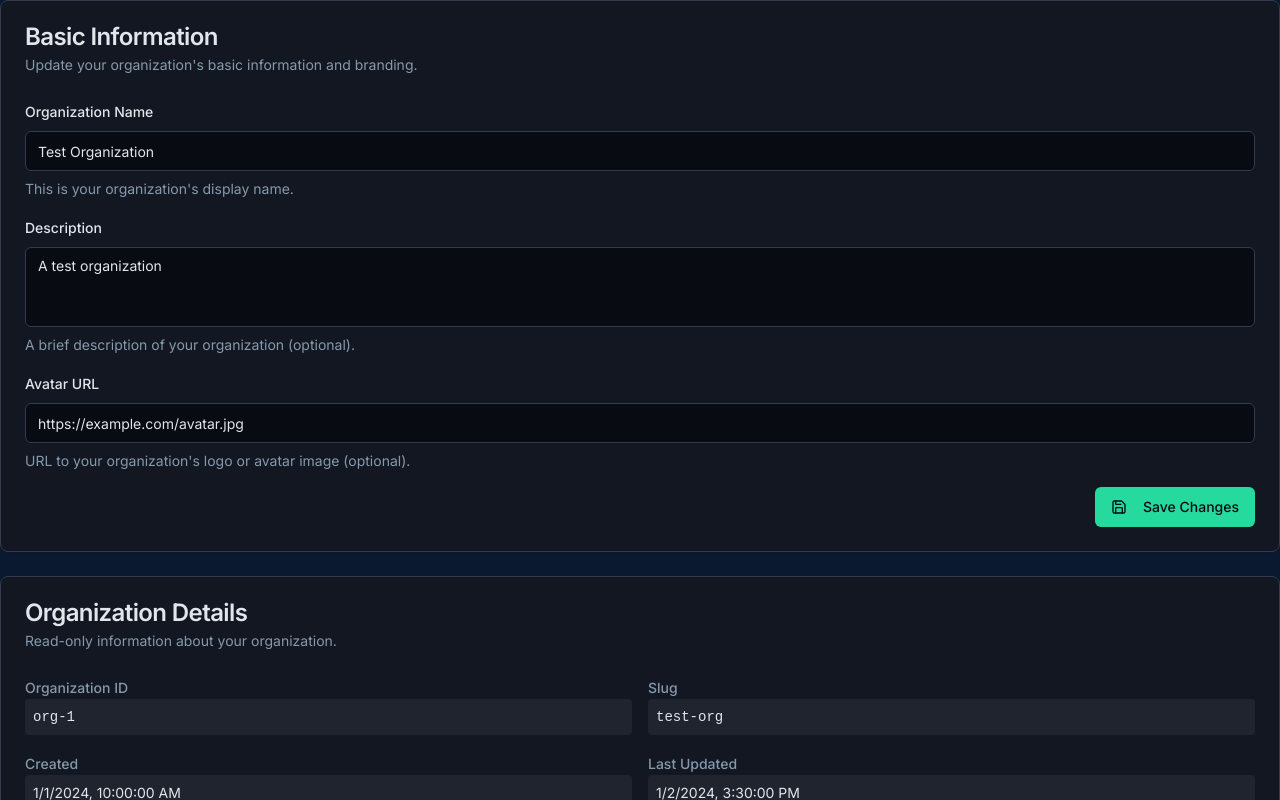
it: OrganizationSettings › validates URL format for avatar
The width and height of the screenshot is (1280, 800).
# Enter invalid URL
Type "not-a-url" into the field showing "https://example.com/avatar.jpg". click: point(640, 423)
box: [25,403,1255,443]
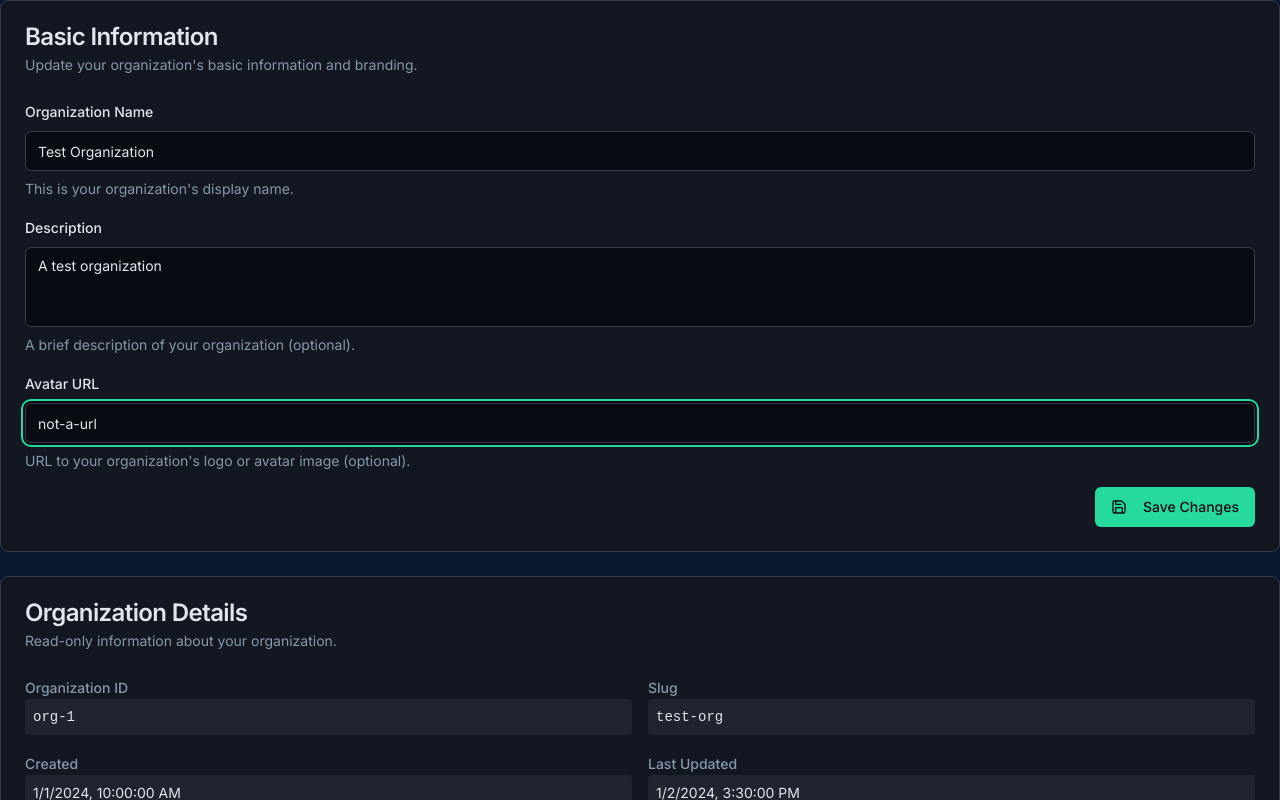
# Try to submit
Click the button "Save Changes". click: point(1175, 507)
box: [1095,487,1255,527]
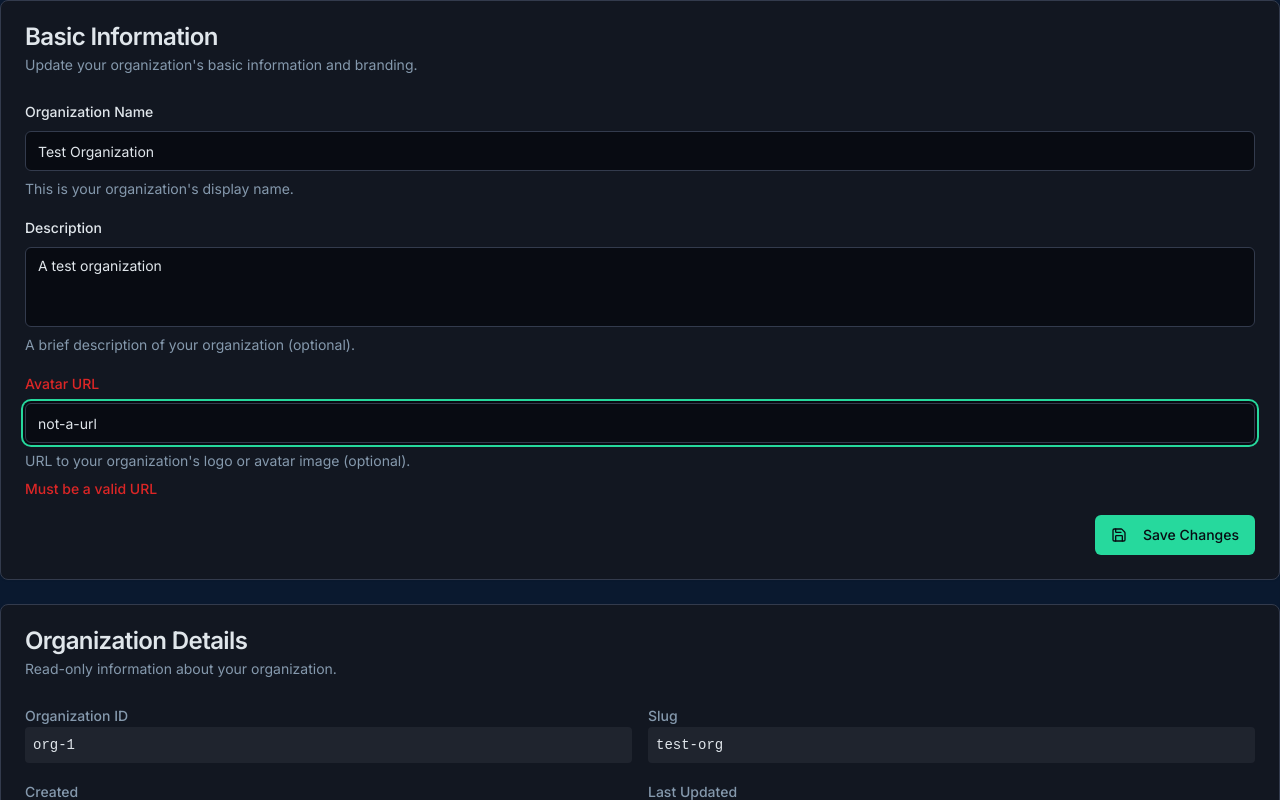
Check: the text "Must be a valid URL" is shown, box [25,480,157,497]
